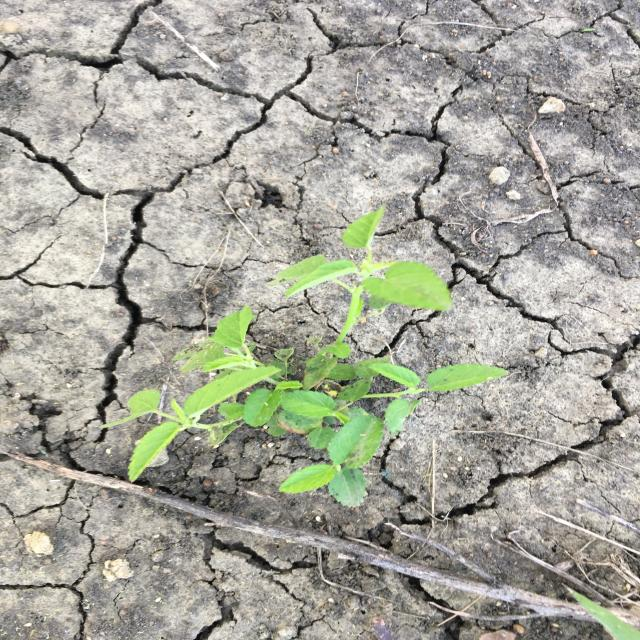PricklySida: (96, 203, 512, 511)
